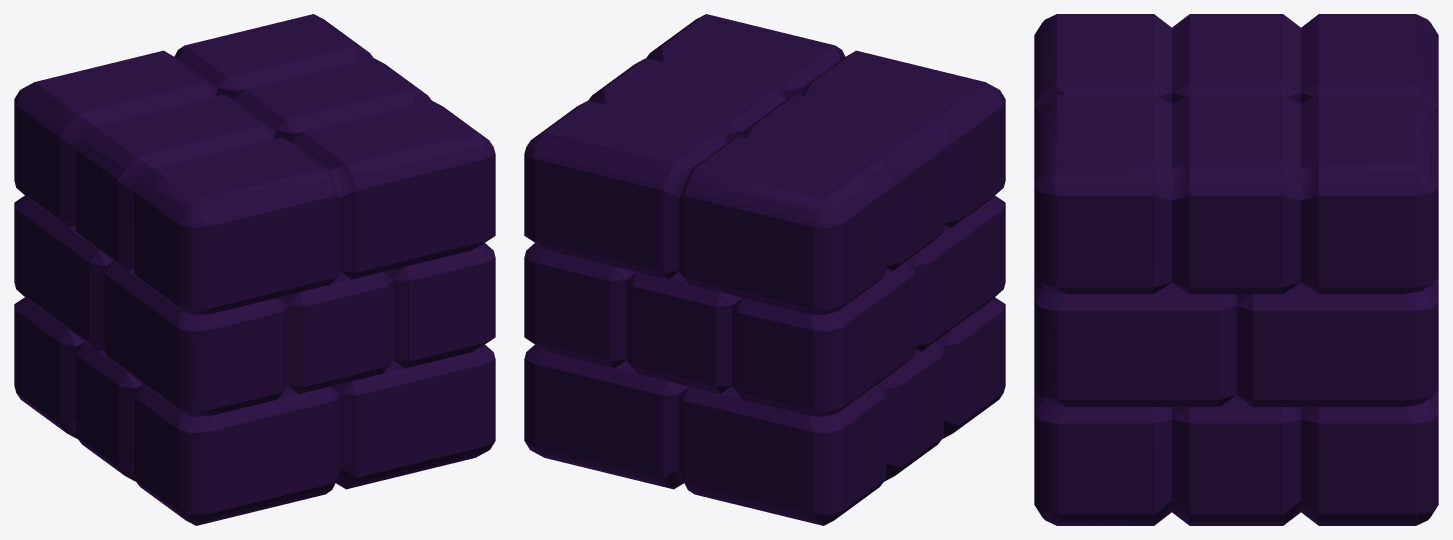
The model's file is StoneBlock_01.fbx.
3 views of the same model, side by side, from view 1: azimuth 30°, elevation 25°; view 2: azimuth 150°, elevation 25°; view 3: azimuth 270°, elevation 25° (orthographic). The views are drawn at different scales.
Parts seen in each view (by area): view 1: Brick; view 2: Brick; view 3: Brick.
Boxes of the visible parts, x1,y1,x2,y2 form: Brick: [14, 14, 495, 525]; Brick: [524, 14, 1005, 525]; Brick: [1034, 14, 1438, 525].
Size of the model in its own units: 39.82 by 39.22 by 39.82.
